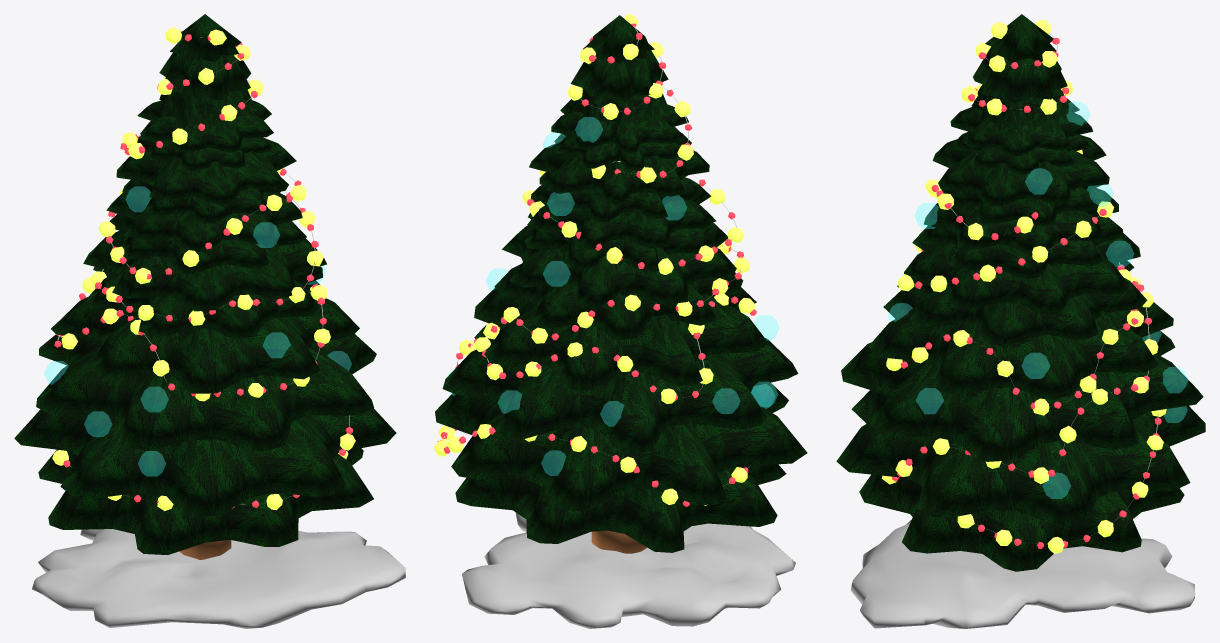
Rendered from elk.glb.
3 renders of one model, left to right at view 1: azimuth 30°, elevation 25°; view 2: azimuth 150°, elevation 25°; view 3: azimuth 270°, elevation 25°, orthographic. The views are drawn at different scales.
Visible parts, largest first — view 1: ель, снег, желтые, красные, ствол, синие.000, синие.008, синие.017, синие.006; view 2: ель, снег, желтые, красные, ствол, синие.002, синие.009, синие.004, синие.003; view 3: ель, снег, желтые, красные, синие.014, синие.002, синие.013, синие.015, синие.005, синие.012.
Part boxes in pixels (x1,y1,x2,y2): ель: (14,14,396,554); снег: (32,529,405,628); желтые: (52,27,355,510); красные: (54,31,353,508); ствол: (179,540,231,559); синие.000: (84,411,111,436); синие.008: (138,451,165,476); синие.017: (141,387,168,411); синие.006: (253,222,279,247); ель: (435,15,807,552); снег: (462,512,795,628); желтые: (434,14,754,505); красные: (437,23,756,506); ствол: (591,530,646,553); синие.002: (543,261,570,286); синие.009: (712,388,740,413); синие.004: (575,117,602,142); синие.003: (547,192,574,215); ель: (836,14,1205,571); снег: (850,519,1195,628); желтые: (881,20,1166,553); красные: (892,38,1161,548); синие.014: (1022,353,1049,378); синие.002: (1106,241,1133,266); синие.013: (1042,473,1070,498); синие.015: (916,388,943,413); синие.005: (1025,168,1052,194); синие.012: (1163,367,1188,392).
Bounding box in the file's own units: 7.89 × 13.06 × 7.62.
Materials: 6 (1 with a texture image).
